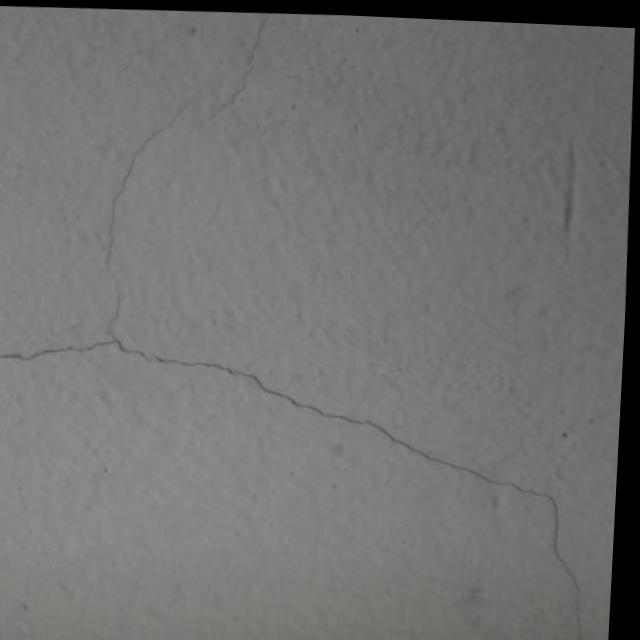Crack: (0, 320, 613, 640), (63, 6, 301, 337)
